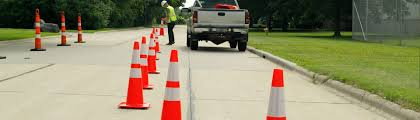cones: (153, 50, 192, 119), (118, 40, 151, 113), (260, 67, 296, 120), (25, 8, 47, 56), (147, 30, 160, 78), (57, 10, 71, 49), (71, 12, 86, 46)
